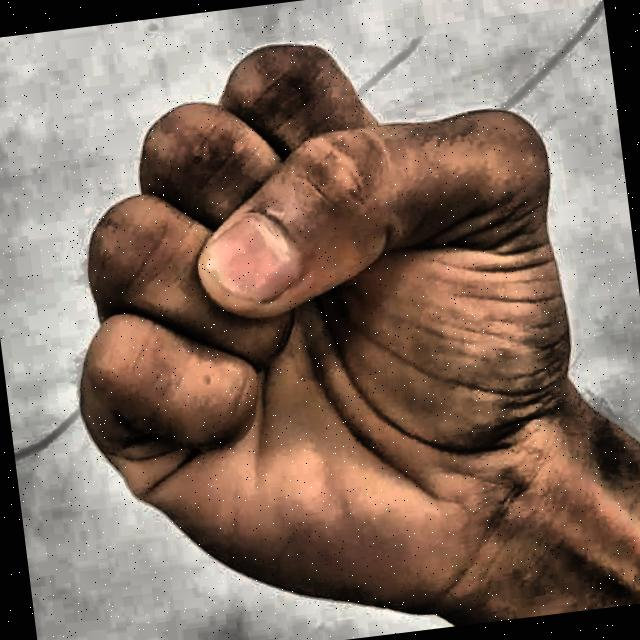Sha: (2, 0, 618, 640)
